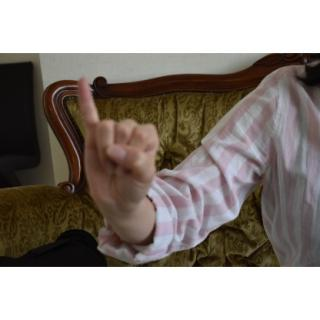MEEM: (75, 74, 161, 215)
